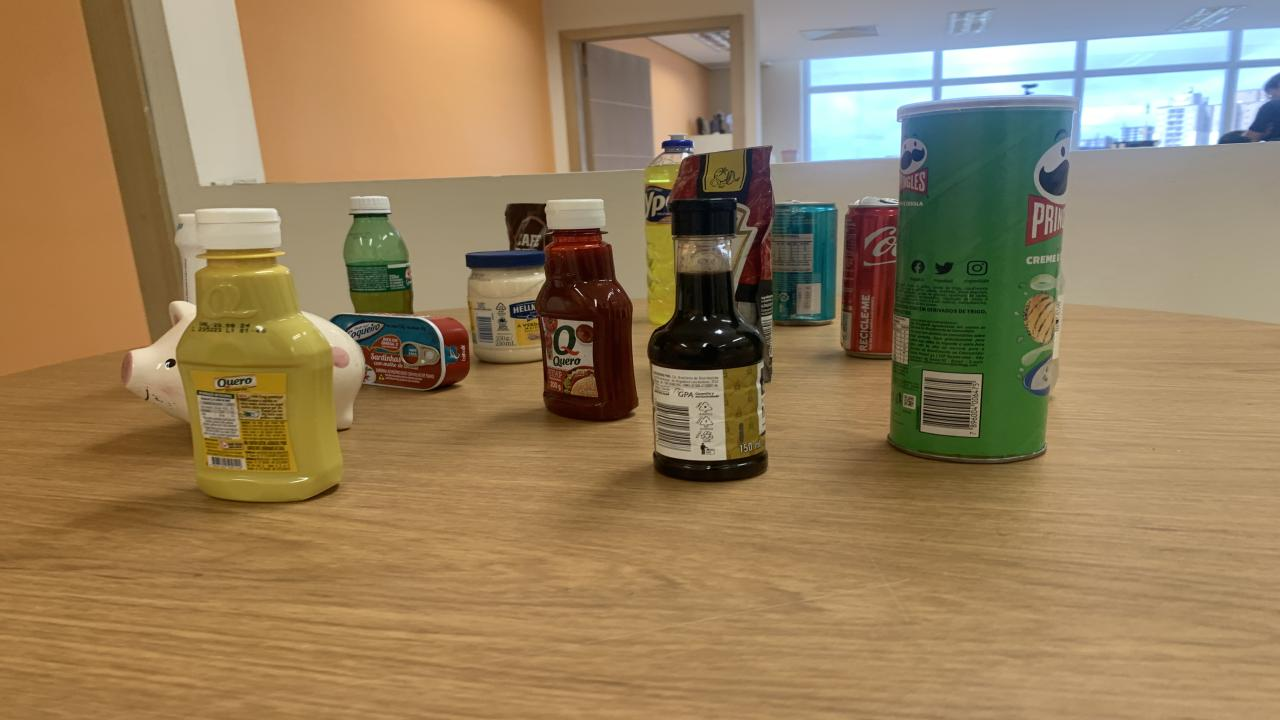Coffee-Pantry_Items: (505, 202, 550, 249)
Coke-Drinks: (842, 197, 898, 358)
Detergent-Cleanup_Items: (645, 135, 692, 326)
English_Sauce-Pantry_Items: (648, 236, 768, 482)
Guarana-Drinks: (342, 197, 412, 313)
Ketchup-Pantry_Items: (535, 199, 638, 420), (648, 236, 762, 369), (648, 238, 762, 369)
Mayonnaise-Pantry_Items: (465, 249, 545, 364)
Mustard-Pantry_Items: (178, 208, 342, 502)
Pig_Safe-Miscellaneous: (120, 300, 198, 422), (302, 311, 365, 429)
Pringles-Snacks: (890, 98, 1078, 463)
Tea-Drinks: (770, 202, 838, 326)
Tomato_Sauce-Pantry_Items: (670, 146, 775, 381)
Tuna_Can-Pantry_Items: (332, 313, 470, 390)
